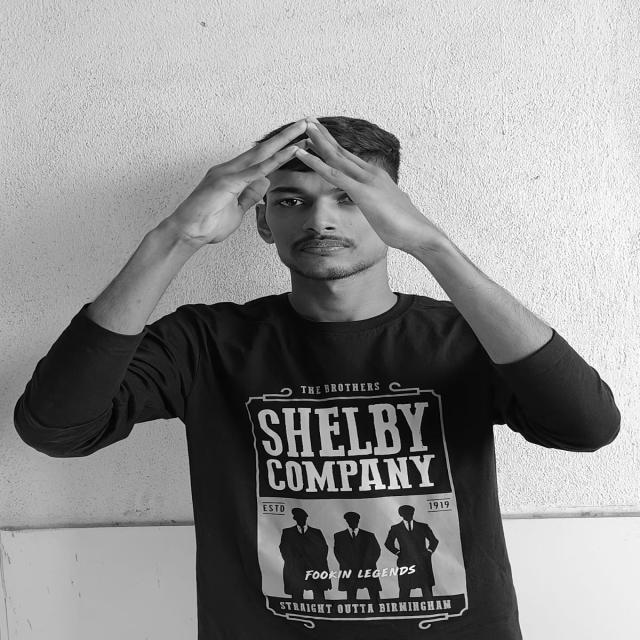Home: (182, 116, 424, 260)
